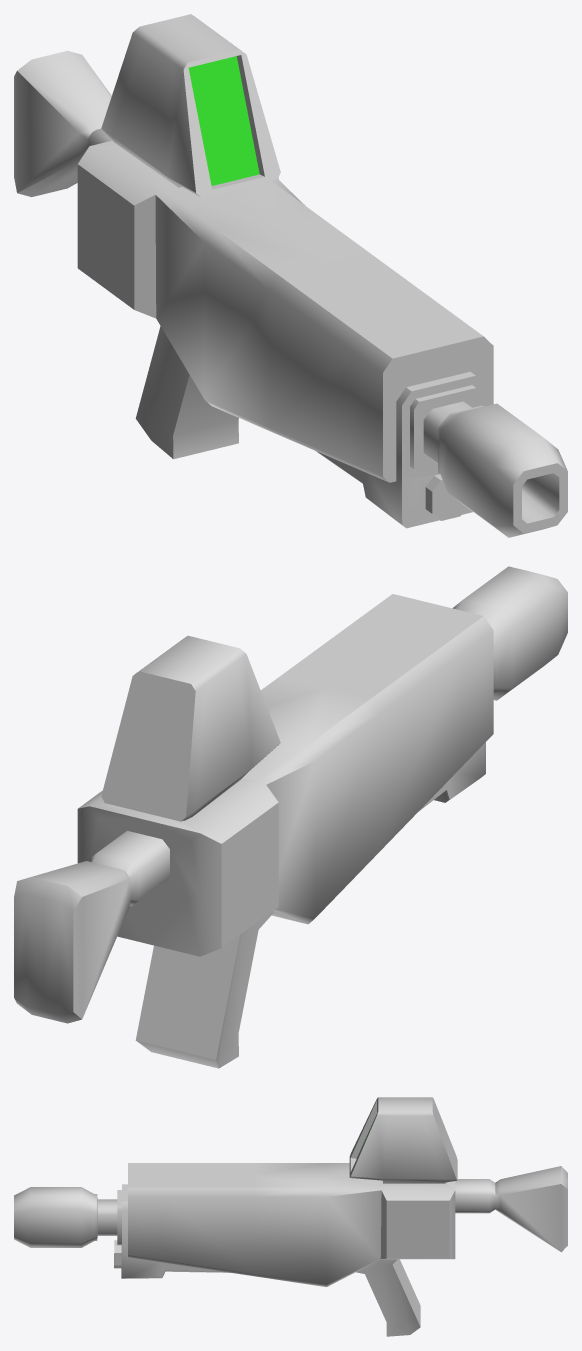
The model's file is SM_BeamRifle.fbx.
3 views of the same model, one above another, from view 1: azimuth 30°, elevation 25°; view 2: azimuth 150°, elevation 25°; view 3: azimuth 270°, elevation 25° (orthographic). The views are drawn at different scales.
Parts seen in each view (by area): view 1: BeamRifle; view 2: BeamRifle; view 3: BeamRifle.
Part boxes in pixels (box(x1,y1,x2,y2)): BeamRifle: box(14, 14, 567, 537); BeamRifle: box(14, 566, 567, 1068); BeamRifle: box(14, 1097, 567, 1336).
Bounding box in the file's own units: 13.7 × 36.33 × 81.62.
